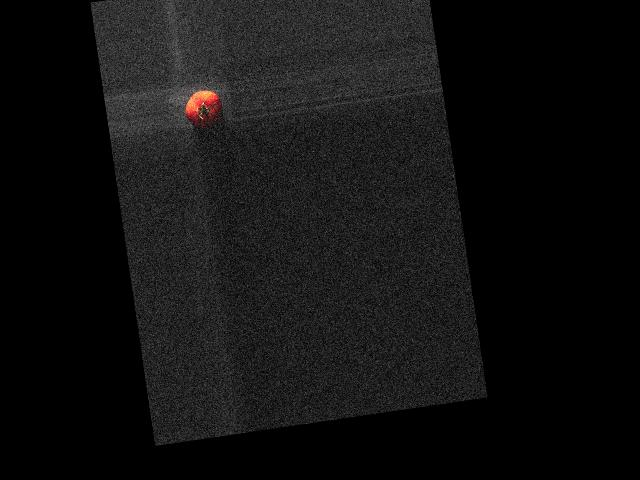tomato: (183, 88, 224, 130)
